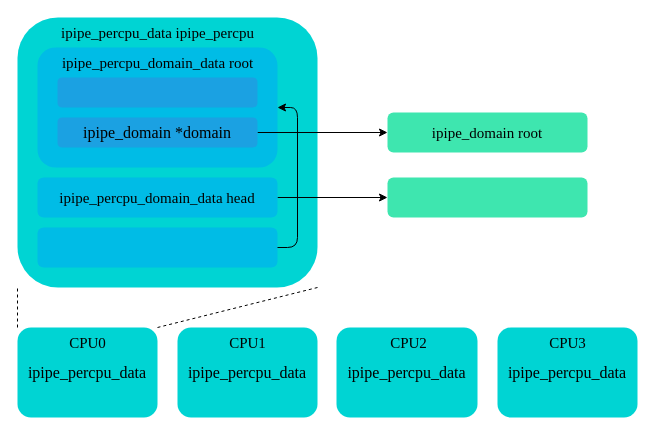
The diagram is 665 pixels wide and 434 high, and some of its shapes have lost their labels. The shapes that lost their labels are listed below. From the top down, each one's centre as x and y in pixels, then its label:
the point at 157,92: IRQ log bitmap
the point at 487,197: ipipe_domain head
the point at 157,247: ipipe_percpu_domain_data *curr
